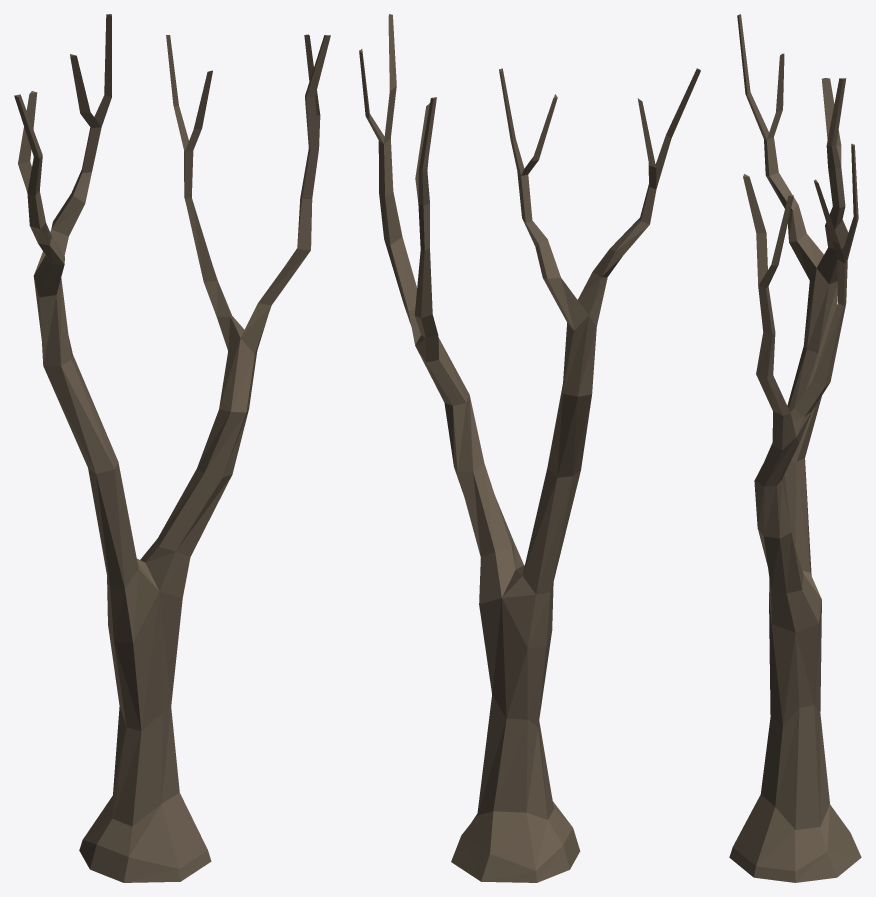
File: SM_Env_Tree_Dead_01.glb
The picture shows the model from 3 angles, left to right: view 1: azimuth 30°, elevation 25°; view 2: azimuth 150°, elevation 25°; view 3: azimuth 270°, elevation 25°; orthographic projection. The views are drawn at different scales.
Parts seen in each view (by area): view 1: SM_Env_Tree_Dead_01_part00; view 2: SM_Env_Tree_Dead_01_part00; view 3: SM_Env_Tree_Dead_01_part00.
Boxes of the visible parts, x1=… form: SM_Env_Tree_Dead_01_part00: x1=14, y1=14, x2=330, y2=882; SM_Env_Tree_Dead_01_part00: x1=359, y1=14, x2=700, y2=882; SM_Env_Tree_Dead_01_part00: x1=729, y1=14, x2=861, y2=882.
Bounding box in the file's own units: 4.16 × 10.14 × 1.57.
1 material, 1 textured.
